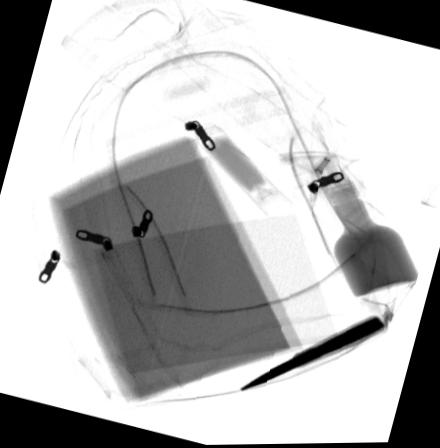Pliers: (238, 315, 387, 393)
